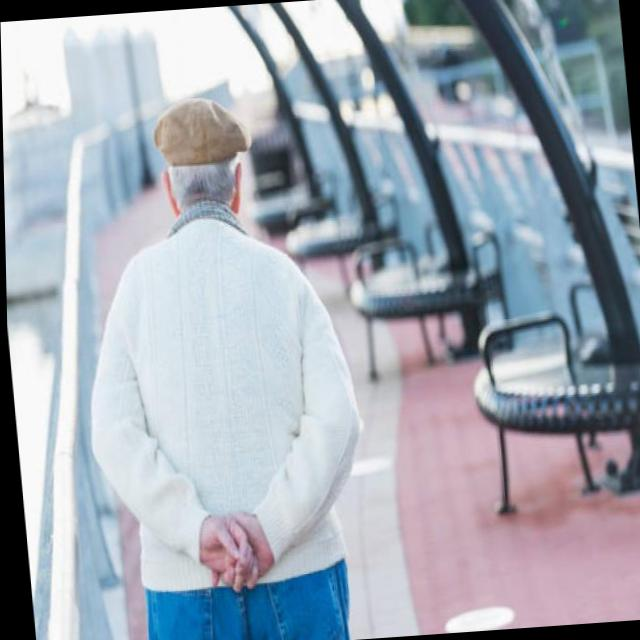no helmet: (133, 82, 281, 274)
